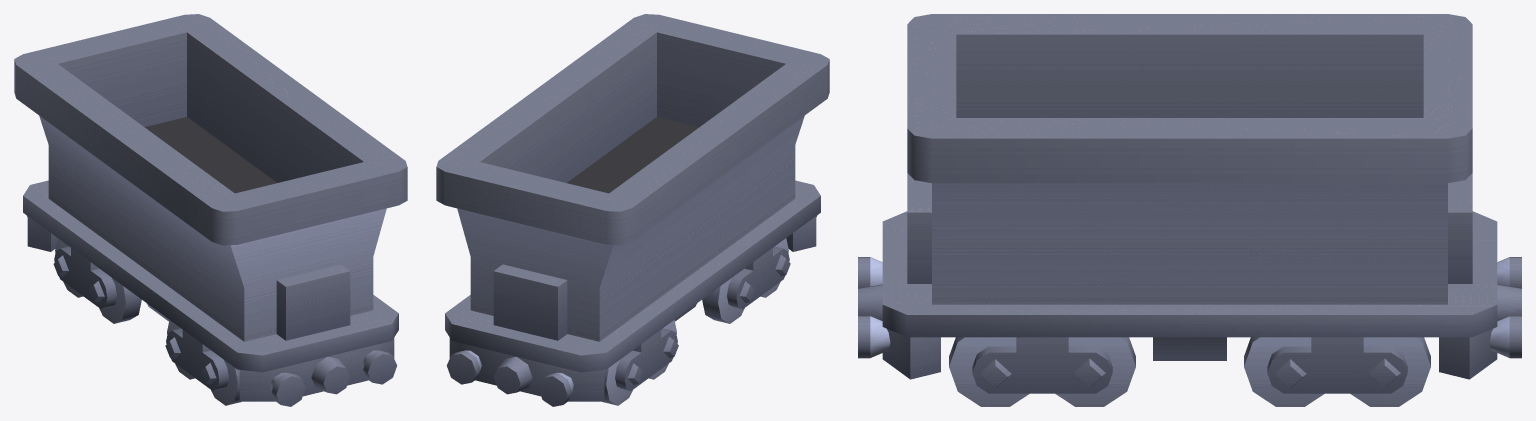
Rendered from train-carriage-box.glb.
The picture shows the model from 3 angles, left to right: view 1: azimuth 30°, elevation 25°; view 2: azimuth 150°, elevation 25°; view 3: azimuth 270°, elevation 25°; orthographic projection. The views are drawn at different scales.
Visible parts, largest first — view 1: train-carriage-box, wheels-back, wheels-front; view 2: train-carriage-box, wheels-front, wheels-back; view 3: train-carriage-box, wheels-back, wheels-front.
Boxes of the visible parts, x1,y1,x2,y2 form: train-carriage-box: [14, 14, 407, 406]; wheels-back: [53, 238, 141, 323]; wheels-front: [165, 320, 241, 405]; train-carriage-box: [436, 14, 829, 406]; wheels-front: [702, 238, 790, 323]; wheels-back: [602, 320, 678, 405]; train-carriage-box: [858, 14, 1521, 379]; wheels-back: [1244, 337, 1430, 406]; wheels-front: [949, 337, 1135, 406].
Size of the model in its own units: 1.2 by 1.3 by 2.7.
1 material, 1 textured.
